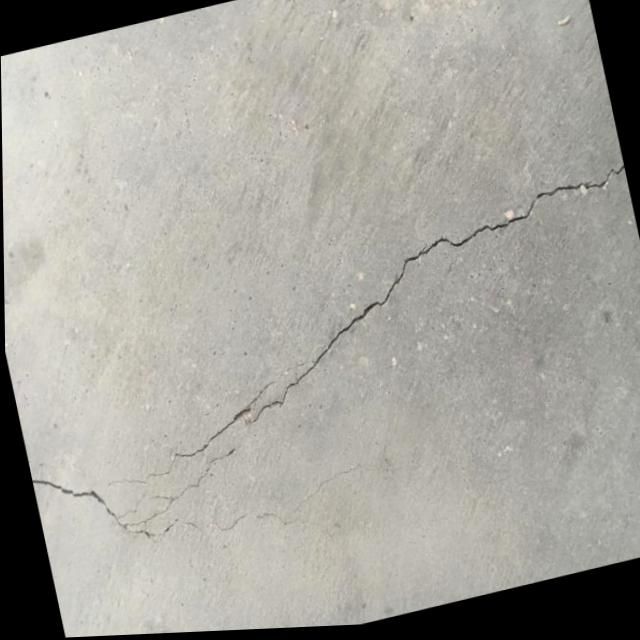Crack: (13, 327, 352, 571), (294, 156, 640, 358)
